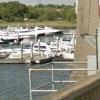Boat: (2, 19, 76, 66)
